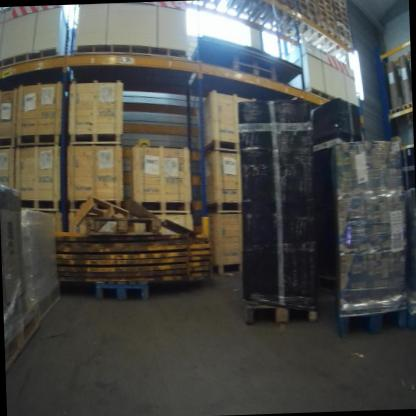pallet: (74, 35, 193, 94), (318, 297, 407, 343), (239, 290, 322, 336), (0, 44, 71, 88), (7, 301, 43, 386), (92, 269, 149, 310), (297, 18, 342, 61), (39, 278, 73, 330), (283, 8, 322, 53), (247, 0, 299, 33), (136, 189, 194, 218), (229, 61, 279, 93), (17, 185, 62, 220), (16, 124, 63, 154), (65, 127, 123, 151), (63, 196, 120, 217), (211, 259, 245, 293), (210, 194, 252, 220), (197, 133, 244, 154), (327, 34, 355, 65), (234, 54, 277, 70), (398, 96, 412, 114), (388, 102, 402, 119)
